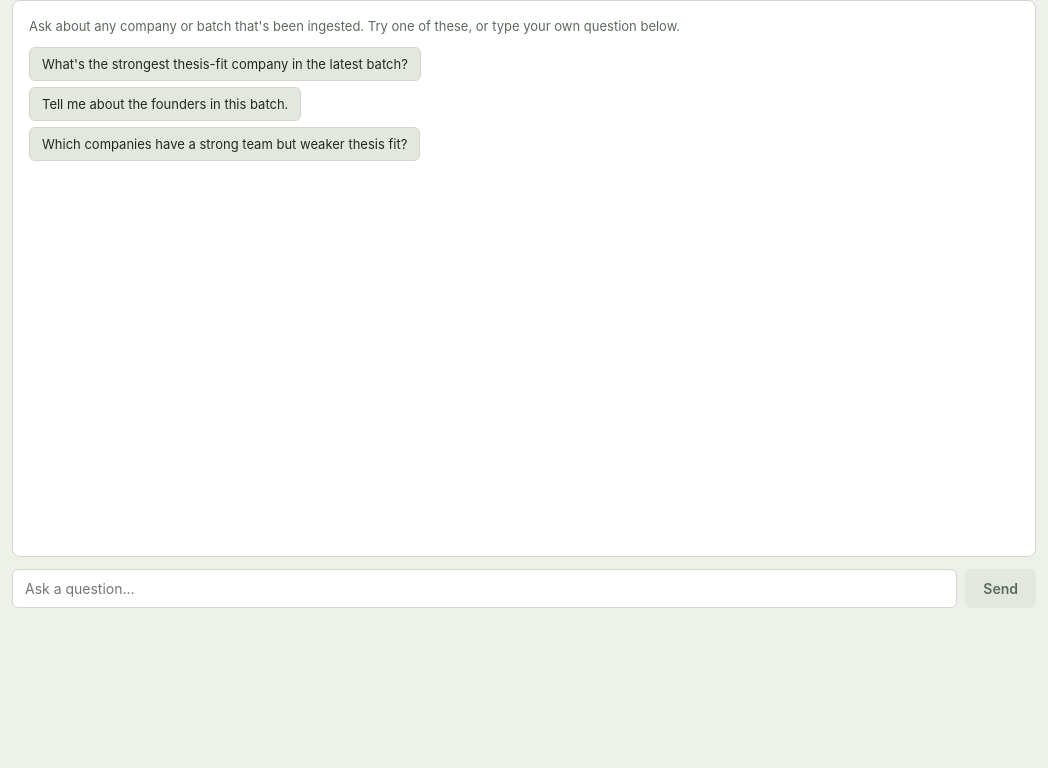
ChatPanel › shows an error row rather than crashing or losing the conversation when the request fails
Type "hello" into the field with placeholder "Ask a question…".
click(485, 588); type("hello")  # box [12,569,957,608]
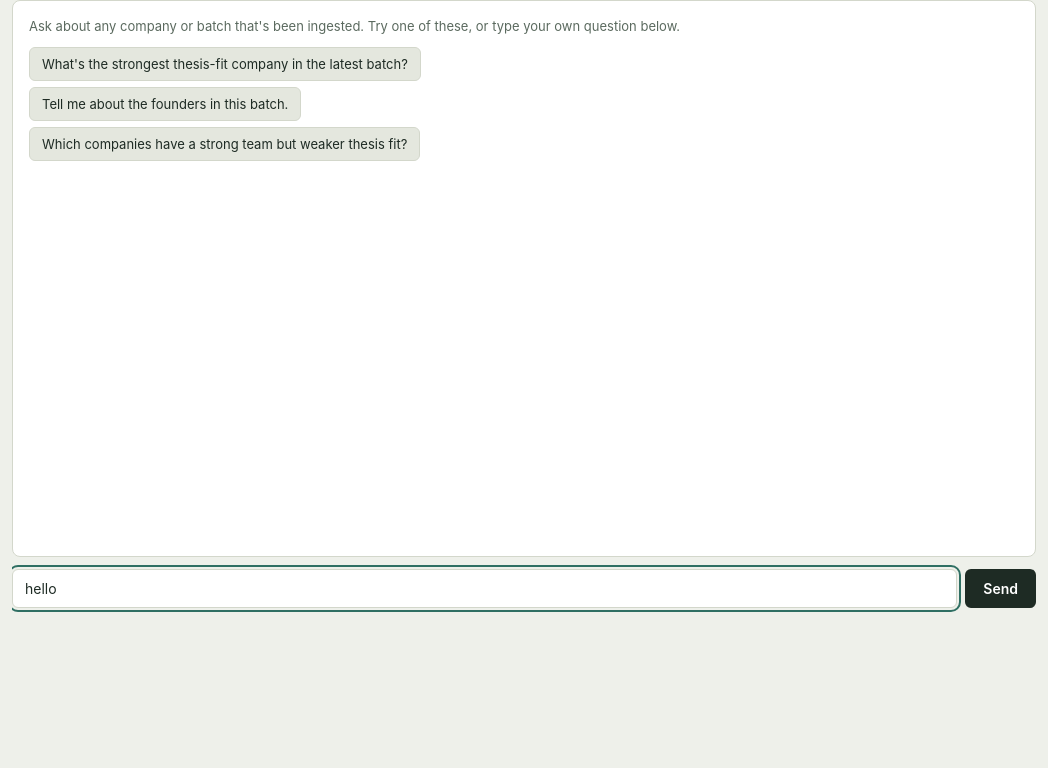
Click the button "Send".
click(1001, 588)  # box [965,569,1036,608]
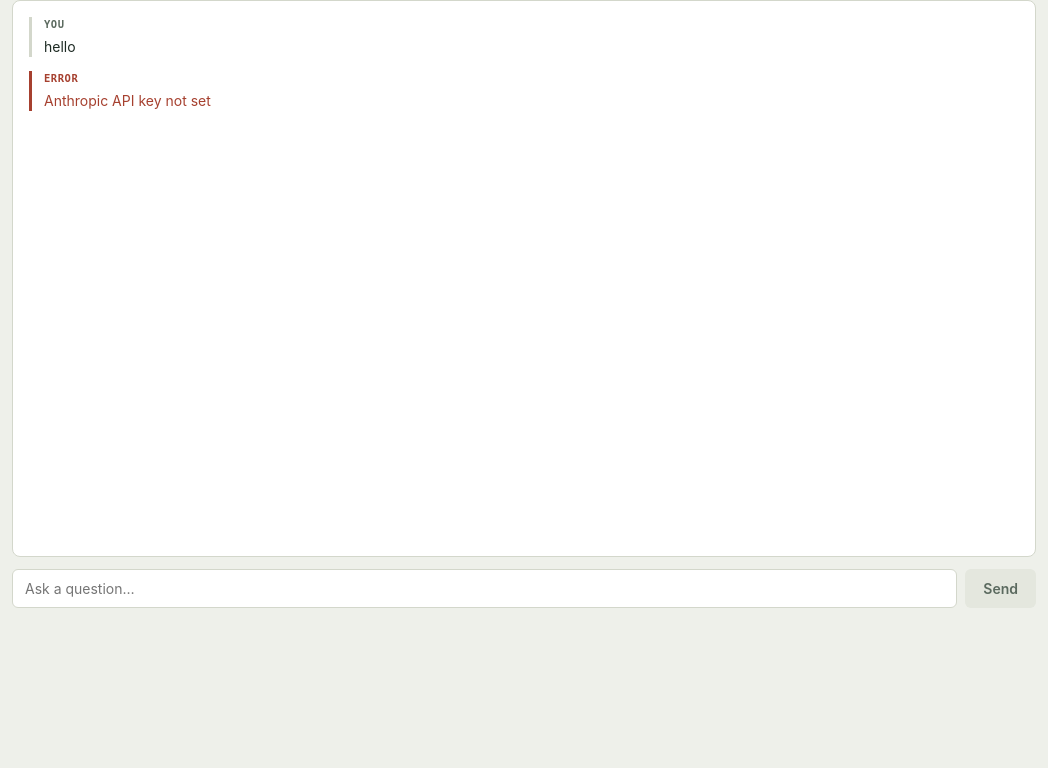
Now the text "Anthropic API key not set" is shown, box [44,92,211,108]
Now the text "hello" is shown, box [44,38,76,55]
